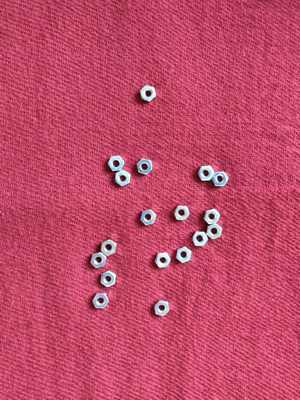nut: (139, 84, 157, 104), (135, 158, 154, 176), (107, 155, 126, 172), (203, 208, 222, 225), (197, 166, 215, 183), (206, 223, 224, 240), (154, 300, 171, 318), (212, 171, 229, 188), (192, 231, 209, 248), (90, 252, 107, 269), (100, 271, 117, 288), (173, 206, 191, 222), (176, 246, 192, 264), (115, 171, 132, 187), (155, 252, 171, 269), (92, 293, 109, 309), (141, 210, 157, 226), (102, 239, 117, 256)
